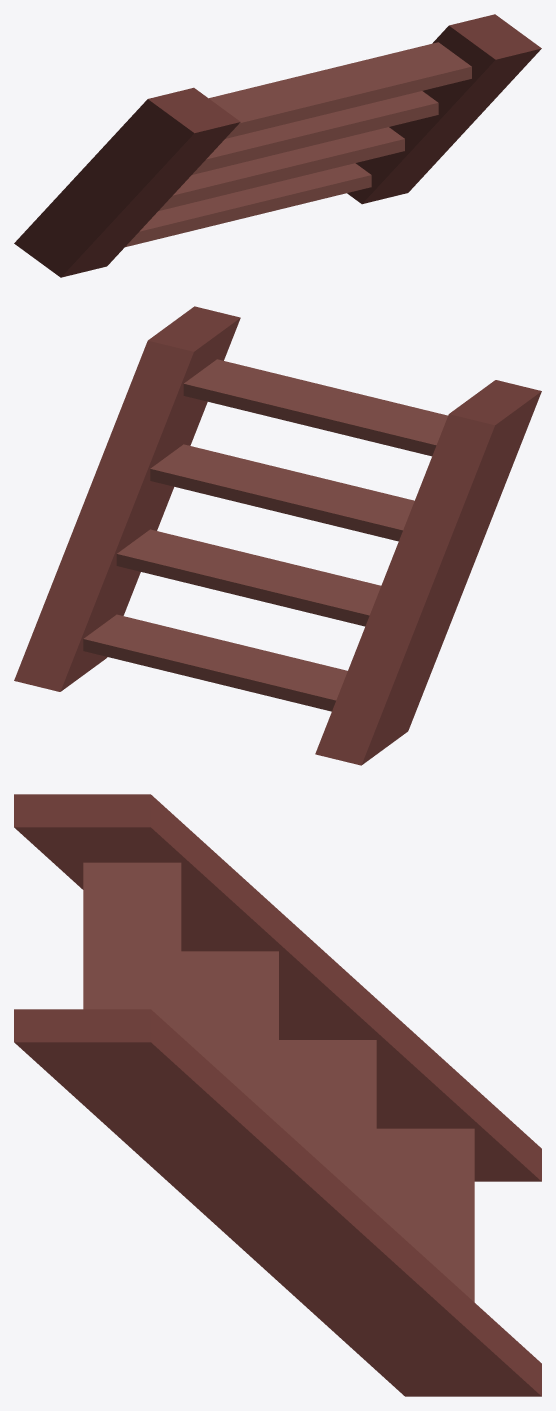
Rendered from Stairs_Small.fbx.
3 renders of one model, top to bottom at view 1: azimuth 30°, elevation 25°; view 2: azimuth 150°, elevation 25°; view 3: azimuth 270°, elevation 25°, orthographic. The views are drawn at different scales.
Visible parts, largest first — view 1: Stairs_Small; view 2: Stairs_Small; view 3: Stairs_Small.
Boxes of the visible parts, x1,y1,x2,y2 form: Stairs_Small: (14,14,541,277); Stairs_Small: (14,306,541,765); Stairs_Small: (14,794,541,1396).
Bounding box in the file's own units: 1.2 × 1.08 × 0.8.
